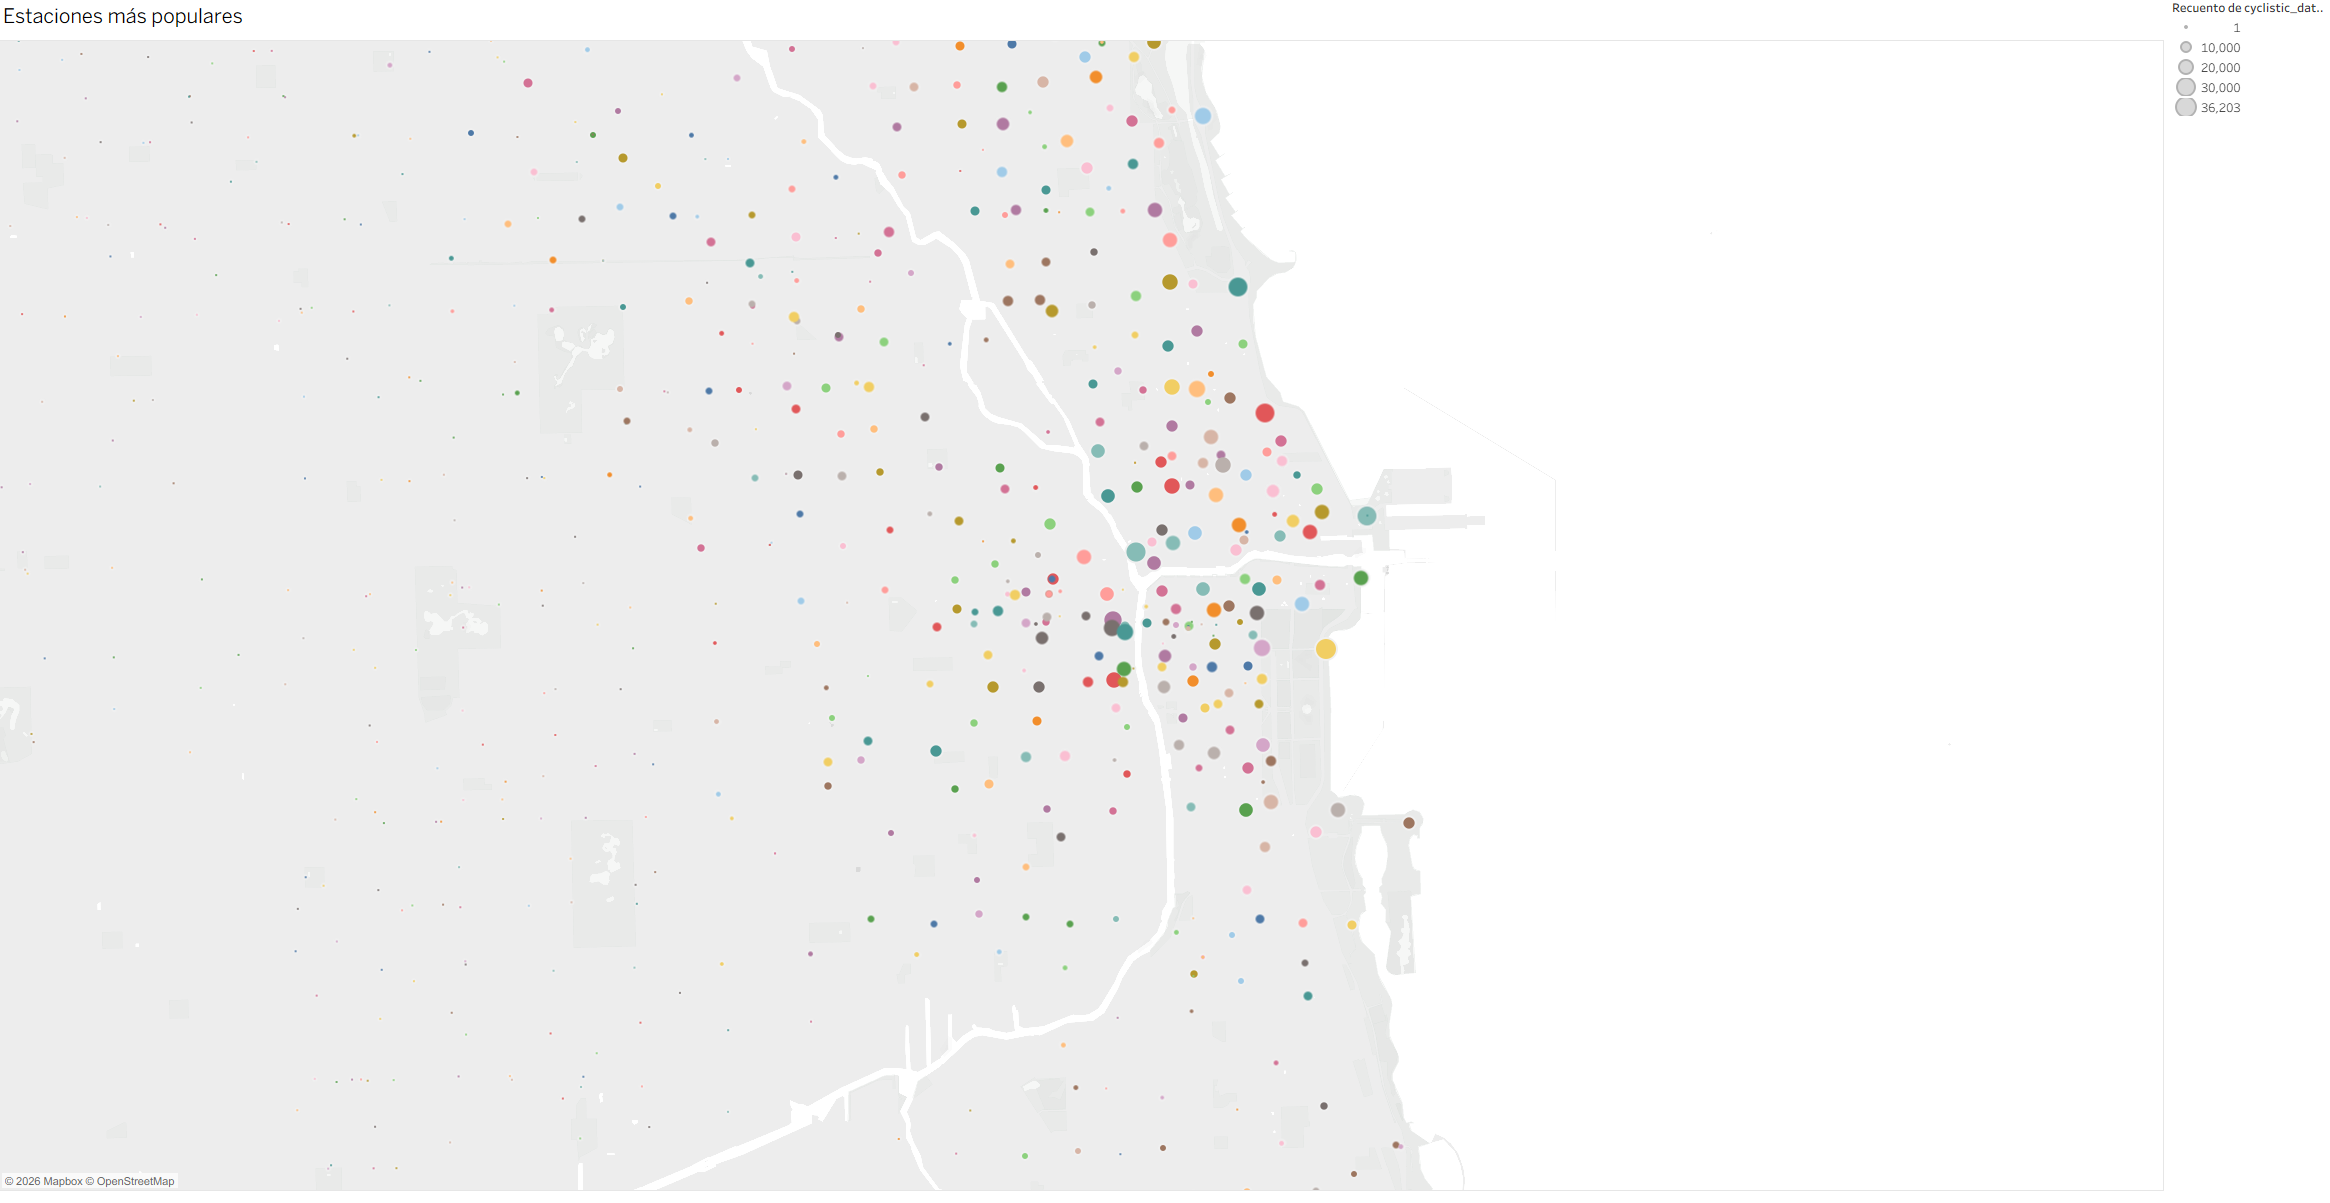

What the dashboard file says about the page in this screenshot:
{"tool":"tableau","page":{"name":"Dashboard 4","canvas":[1000,1000],"units":"permille","ordinal":3},"visuals":[{"type":"worksheet","title":"Hoja 6","mark":"Automatic","rows":["start_lat"],"cols":["start_lng"],"box":[7,14.7,846.8,970.6]},{"type":"legend","title":"Hoja 6","param":"[federated.1qwhhns0i9gyeo1g87bj21inpg46].[__tableau_internal_object_id__].[cnt:c","box":[853.8,14.7,139.2,231.6]}]}

Visuals, with their boxes on the dashboard's canvas, which has no fixed pixel size, in thousandths of its width and height (x1, y1, x2, y2). These are canvas units, not pixel positions in the 2330x1203 screenshot, which may show the page scaled, cropped or inside an application window:
"Hoja 6" worksheet: x1=7, y1=15, x2=854, y2=985
"Hoja 6" legend: x1=854, y1=15, x2=993, y2=246
